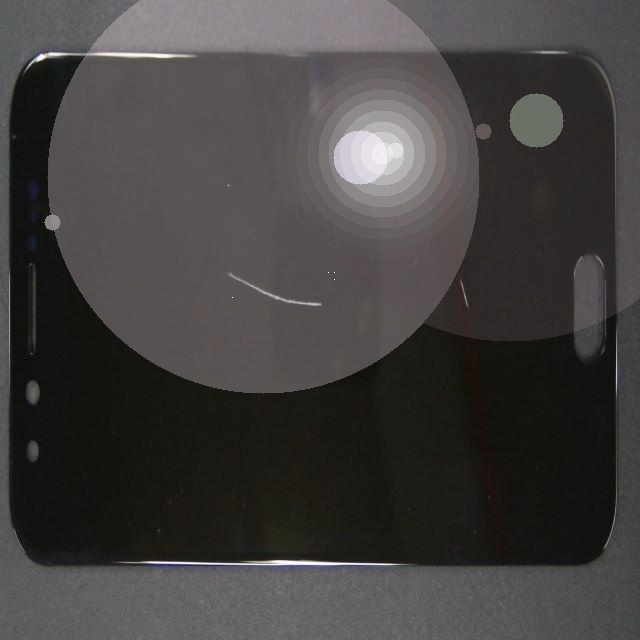scratch: (58, 112, 364, 445)
